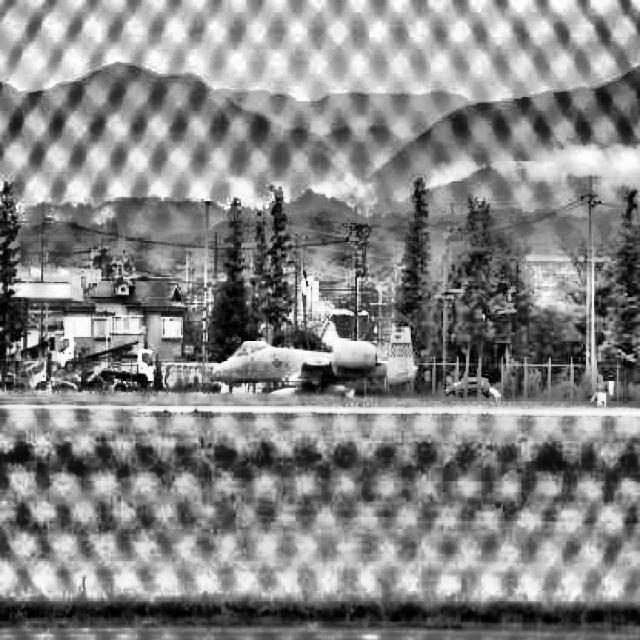A10: (210, 326, 418, 399)
